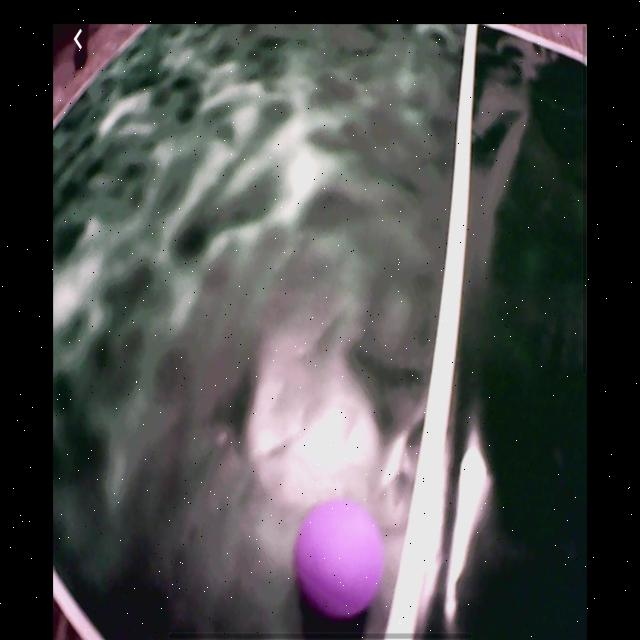ball: (295, 501, 382, 618)
